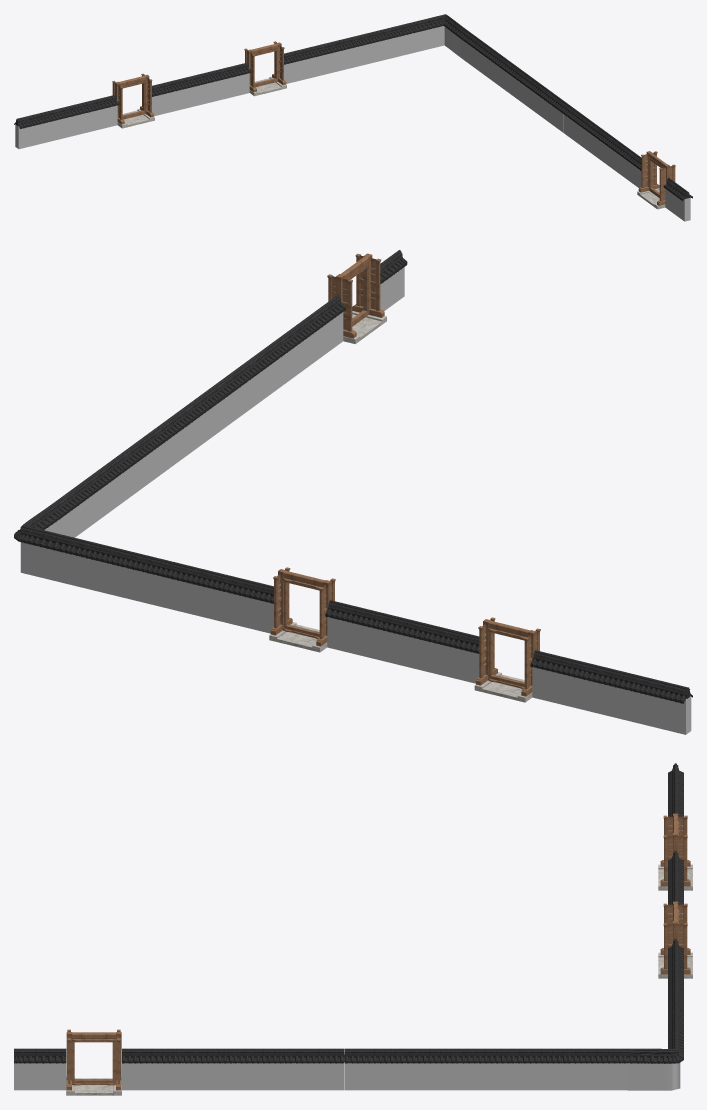
Rendered from SM_JSH_HG_StoneWallH_Splines_36.fbx.
3 views of the same model, one above another, from view 1: azimuth 30°, elevation 25°; view 2: azimuth 150°, elevation 25°; view 3: azimuth 270°, elevation 25° (orthographic). The views are drawn at different scales.
Parts seen in each view (by area): view 1: SM_JSH_HG_StoneWallH_Splines_36; view 2: SM_JSH_HG_StoneWallH_Splines_36; view 3: SM_JSH_HG_StoneWallH_Splines_36.
Part boxes in pixels (x1,y1,x2,y2): SM_JSH_HG_StoneWallH_Splines_36: [14, 14, 692, 221]; SM_JSH_HG_StoneWallH_Splines_36: [14, 250, 692, 734]; SM_JSH_HG_StoneWallH_Splines_36: [14, 763, 692, 1095].
Bounding box in the file's own units: 2809 × 2754 × 248.
